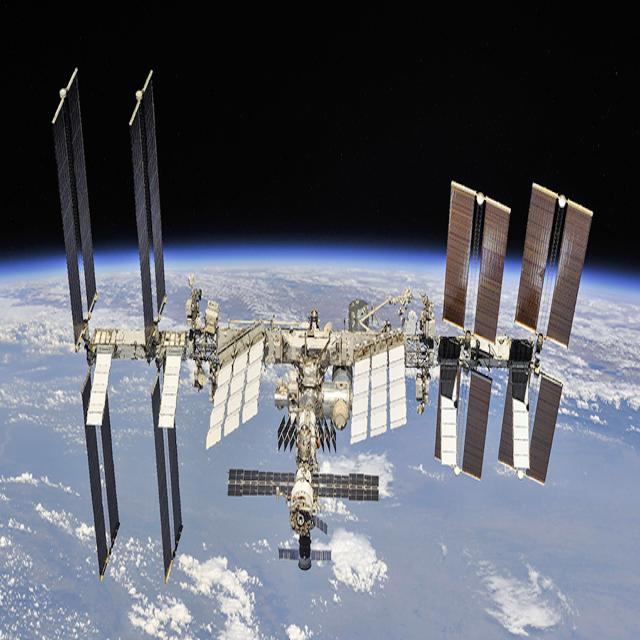medium_debris: (52, 69, 592, 579)
